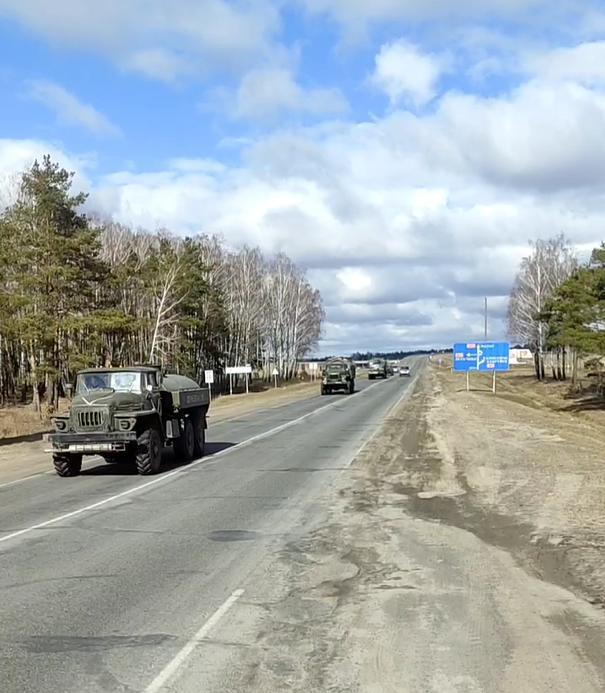car: (397, 366, 412, 378)
truck: (42, 362, 218, 484), (315, 362, 360, 401), (363, 352, 390, 385)
